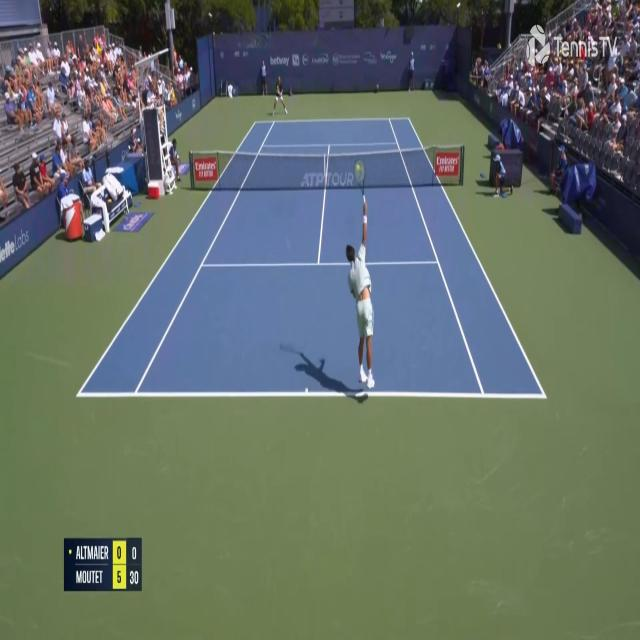tennis-player: (344, 237, 377, 394), (270, 77, 289, 117)
